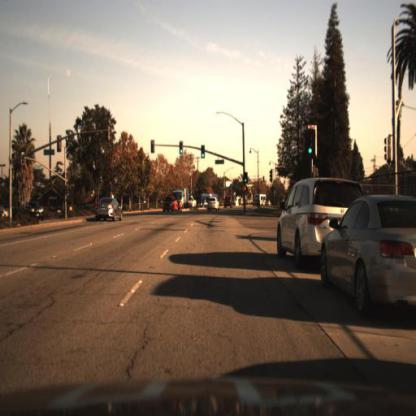car: (320, 195, 416, 322), (276, 174, 366, 271), (96, 196, 124, 224), (162, 194, 178, 215), (206, 194, 220, 213), (185, 197, 197, 209)
trafficLight-Green: (305, 126, 319, 161), (242, 169, 250, 189), (200, 145, 208, 162), (179, 139, 185, 156)
truck: (175, 189, 190, 209)
